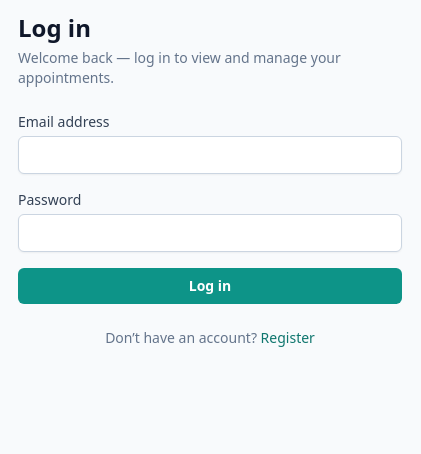
Scenario: LoginPage › shows rate limit warning on 429 (TOO_MANY_REQUESTS)
In the field labelled "Email address": x=210, y=155 x1=18 y1=136 x2=402 y2=174, type "test@example.com"
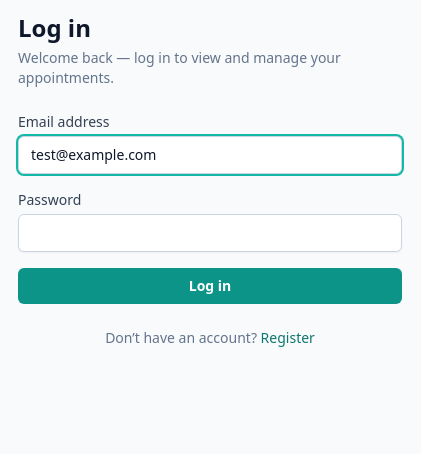
In the password field labelled "Password": x=210, y=233 x1=18 y1=214 x2=402 y2=252, type "password123"
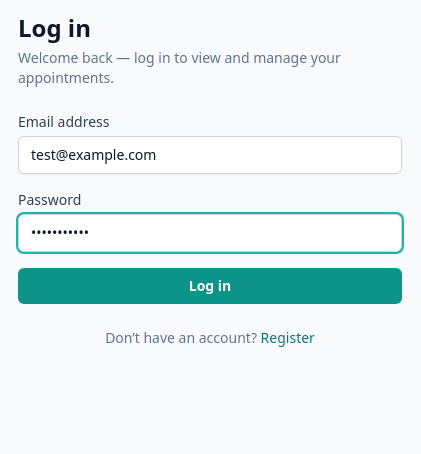
Click the button "Log in": x=210, y=286 x1=18 y1=268 x2=402 y2=304
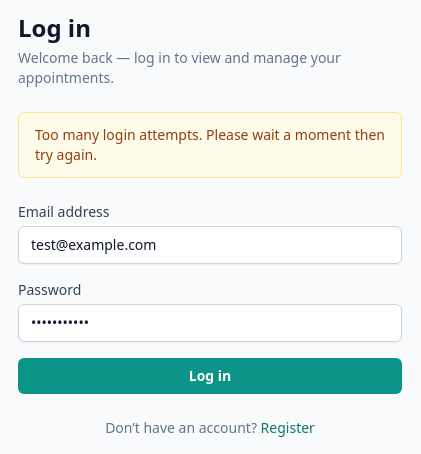
Result: the message shows "Too many login attempts" at x1=35 y1=125 x2=385 y2=164
